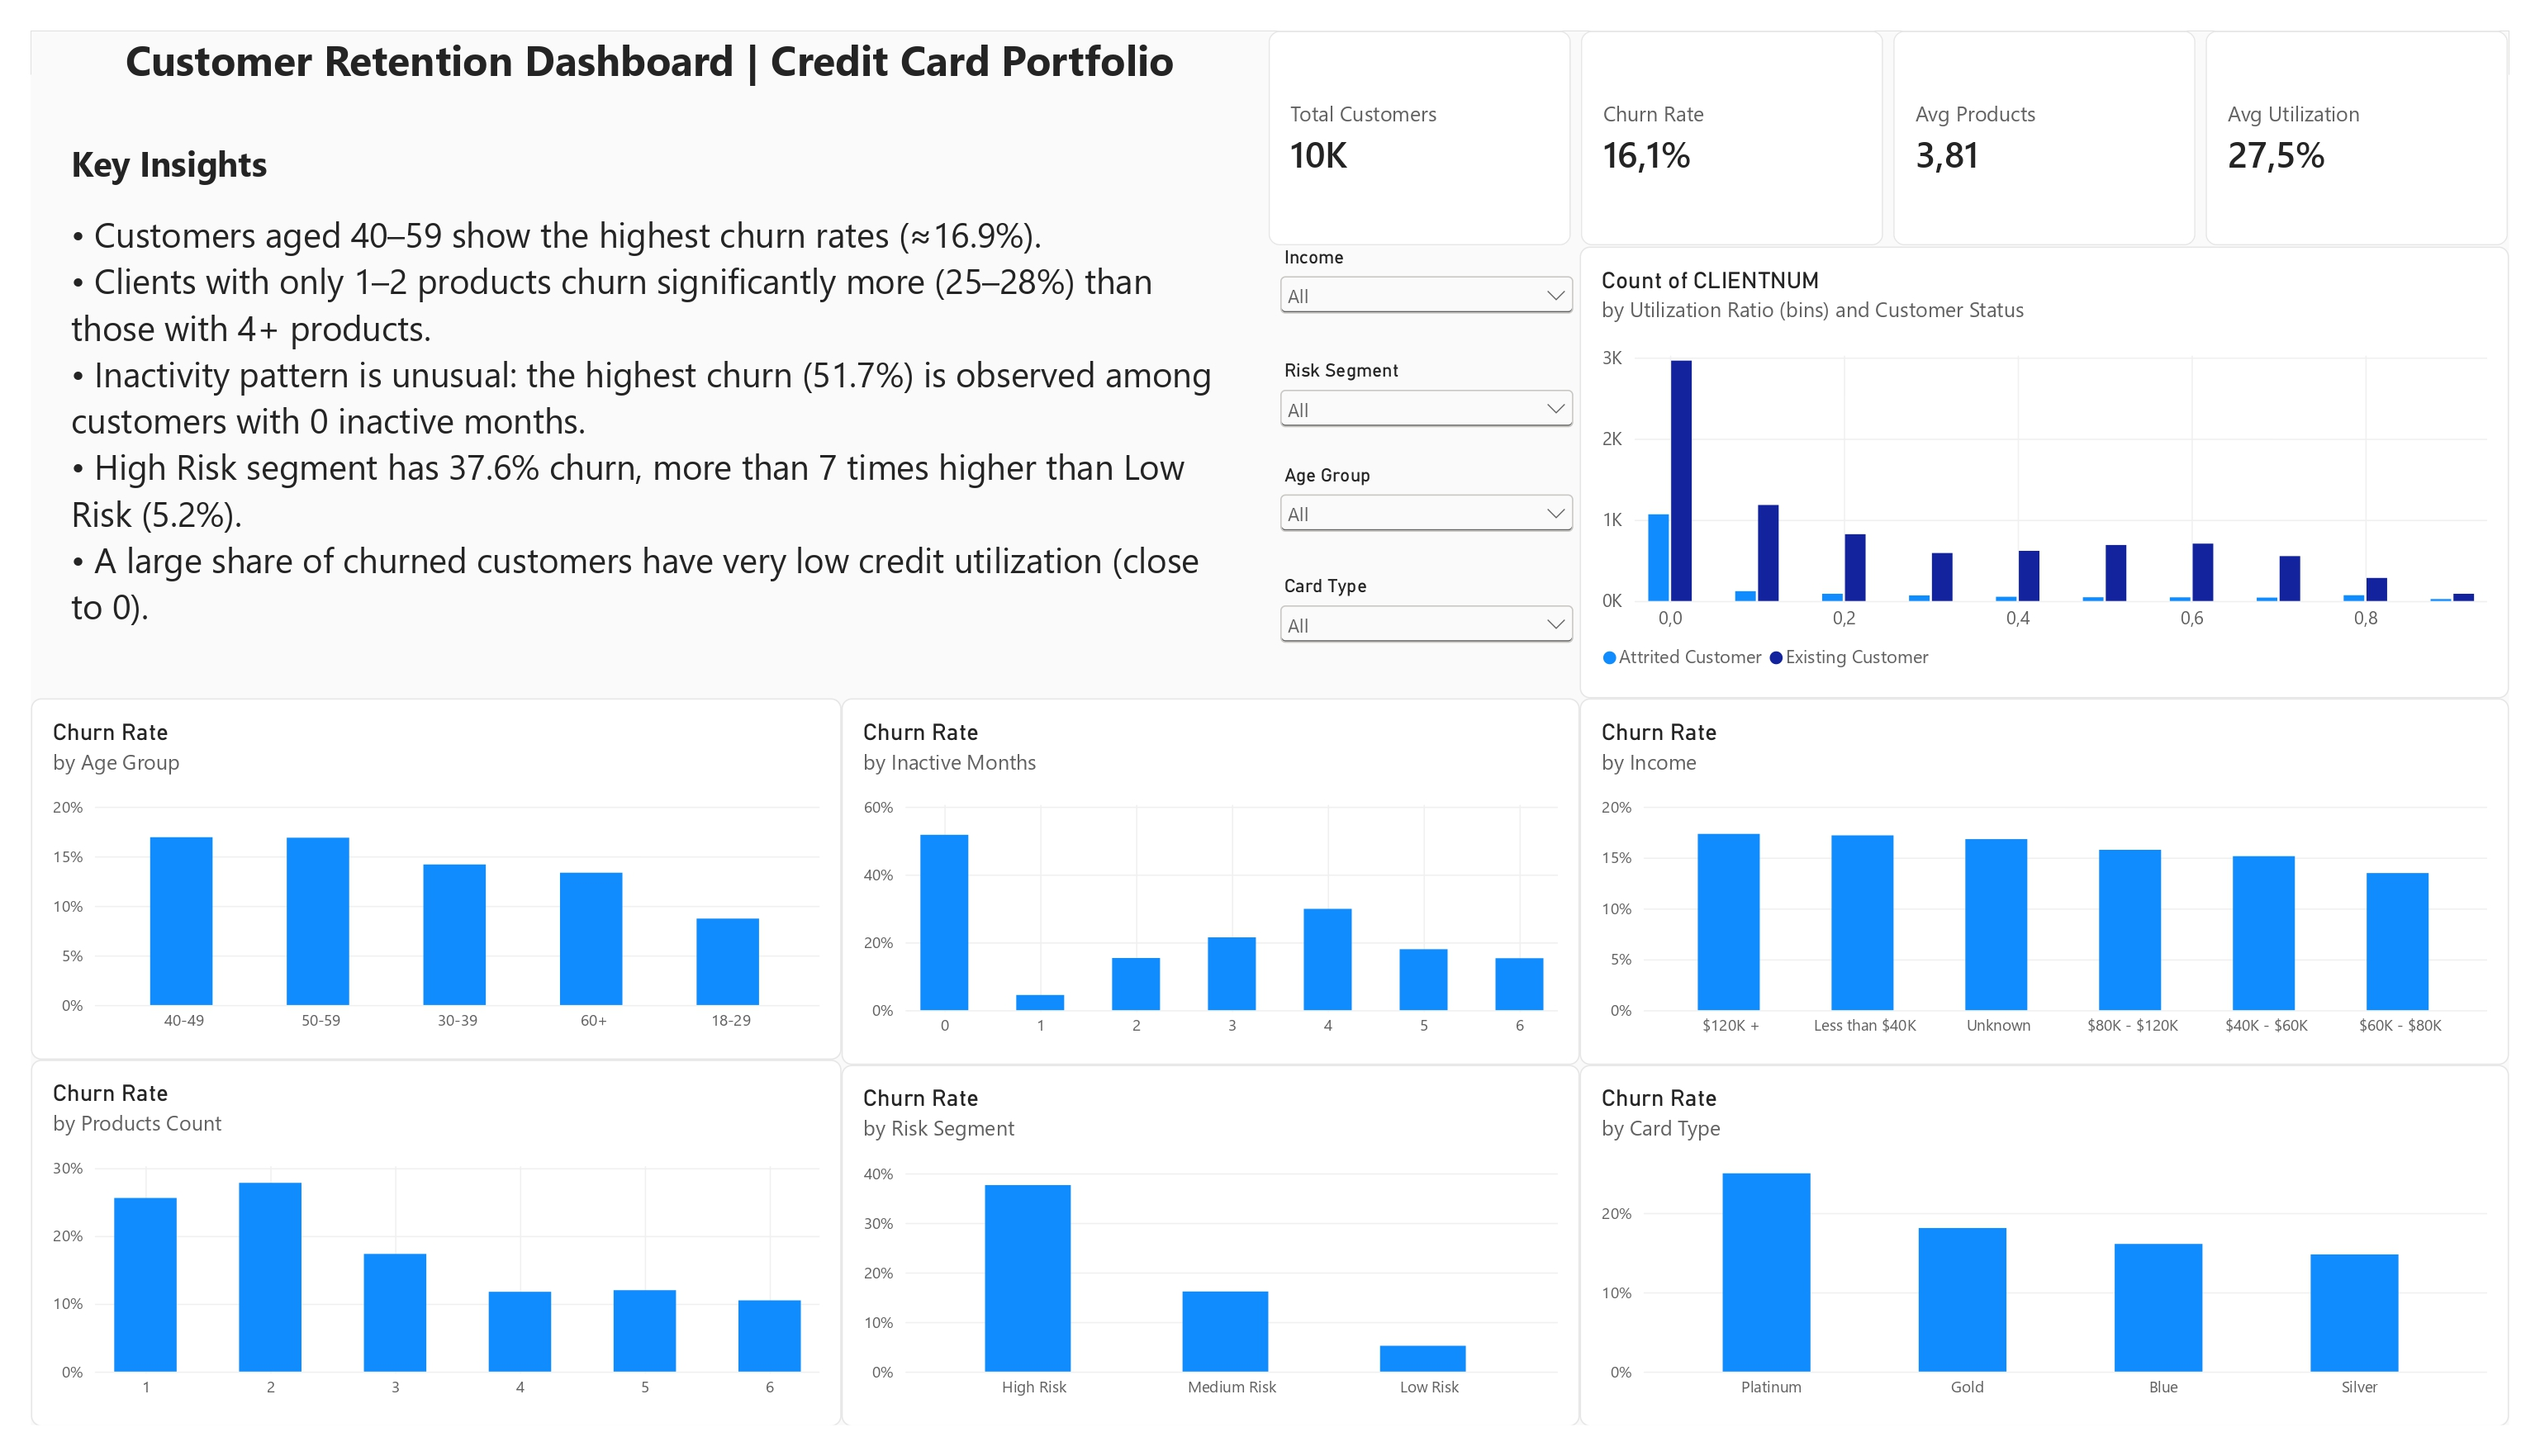

What the dashboard file says about the page in this screenshot:
{"tool":"powerbi","page":{"name":"Page 1","canvas":[1920,1080],"ordinal":0},"visuals":[{"type":"cardVisual","fields":{"Data":["BankChurners.Total Customers","BankChurners.Churn Rate","BankChurners.Avg Products","BankChurners.Avg Utilization"]},"box":[959.2,0,961.2,166.7],"z":0},{"type":"clusteredColumnChart","fields":{"Category":["BankChurners.Age Group"],"Y":["BankChurners.Churn Rate"]},"box":[0,516.6,627.8,279.9],"z":1000},{"type":"clusteredColumnChart","fields":{"Category":["BankChurners.Income"],"Y":["BankChurners.Churn Rate"]},"box":[1200,516.6,720.4,284],"z":2000},{"type":"clusteredColumnChart","fields":{"Category":["BankChurners.Products Count"],"Y":["BankChurners.Churn Rate"]},"box":[0,796.6,627.8,284],"z":3000},{"type":"clusteredColumnChart","fields":{"Category":["BankChurners.Card Type"],"Y":["BankChurners.Churn Rate"]},"box":[1200,800.7,720.4,279.9],"z":4000},{"type":"clusteredColumnChart","fields":{"Category":["BankChurners.Inactive Months"],"Y":["BankChurners.Churn Rate"]},"box":[627.8,516.6,572.2,284],"z":5000},{"type":"clusteredColumnChart","fields":{"Category":["BankChurners.Risk Segment"],"Y":["BankChurners.Churn Rate"]},"box":[627.8,800.7,572.2,279.9],"z":6000},{"type":"clusteredColumnChart","fields":{"Category":["BankChurners.Utilization Ratio (bins)"],"Series":["BankChurners.Customer Status"],"Y":["CountNonNull(BankChurners.CLIENTNUM)"]},"box":[1200,166.7,720.4,349.9],"z":7000},{"type":"slicer","fields":{"Values":["BankChurners.Income"]},"box":[963.3,166.7,236.7,88.5],"z":8000},{"type":"slicer","fields":{"Values":["BankChurners.Risk Segment"]},"box":[963.3,255.2,236.7,74.1],"z":9000},{"type":"slicer","fields":{"Values":["BankChurners.Age Group"]},"box":[963.3,335.5,236.7,86.4],"z":10000},{"type":"slicer","fields":{"Values":["BankChurners.Card Type"]},"box":[963.3,422,236.7,94.7],"z":10001},{"type":"textbox","box":[0,0,959.2,84.4],"z":10002},{"type":"textbox","box":[30.9,84.4,895.4,399.3],"z":10003}]}

Visuals, with their boxes on the page's 1920x1080 design canvas (x1, y1, x2, y2). These are canvas units, not pixel positions in the 2540x1456 screenshot, which may show the page scaled, cropped or inside an application window:
cardVisual - BankChurners.Total Customers x BankChurners.Churn Rate: (959,0,1920,167)
clusteredColumnChart - BankChurners.Age Group x BankChurners.Churn Rate: (0,517,628,796)
clusteredColumnChart - BankChurners.Income x BankChurners.Churn Rate: (1200,517,1920,801)
clusteredColumnChart - BankChurners.Products Count x BankChurners.Churn Rate: (0,797,628,1081)
clusteredColumnChart - BankChurners.Card Type x BankChurners.Churn Rate: (1200,801,1920,1081)
clusteredColumnChart - BankChurners.Inactive Months x BankChurners.Churn Rate: (628,517,1200,801)
clusteredColumnChart - BankChurners.Risk Segment x BankChurners.Churn Rate: (628,801,1200,1081)
clusteredColumnChart - BankChurners.Utilization Ratio (bins) x BankChurners.Customer Status: (1200,167,1920,517)
slicer - BankChurners.Income: (963,167,1200,255)
slicer - BankChurners.Risk Segment: (963,255,1200,329)
slicer - BankChurners.Age Group: (963,336,1200,422)
slicer - BankChurners.Card Type: (963,422,1200,517)
textbox: (0,0,959,84)
textbox: (31,84,926,484)
